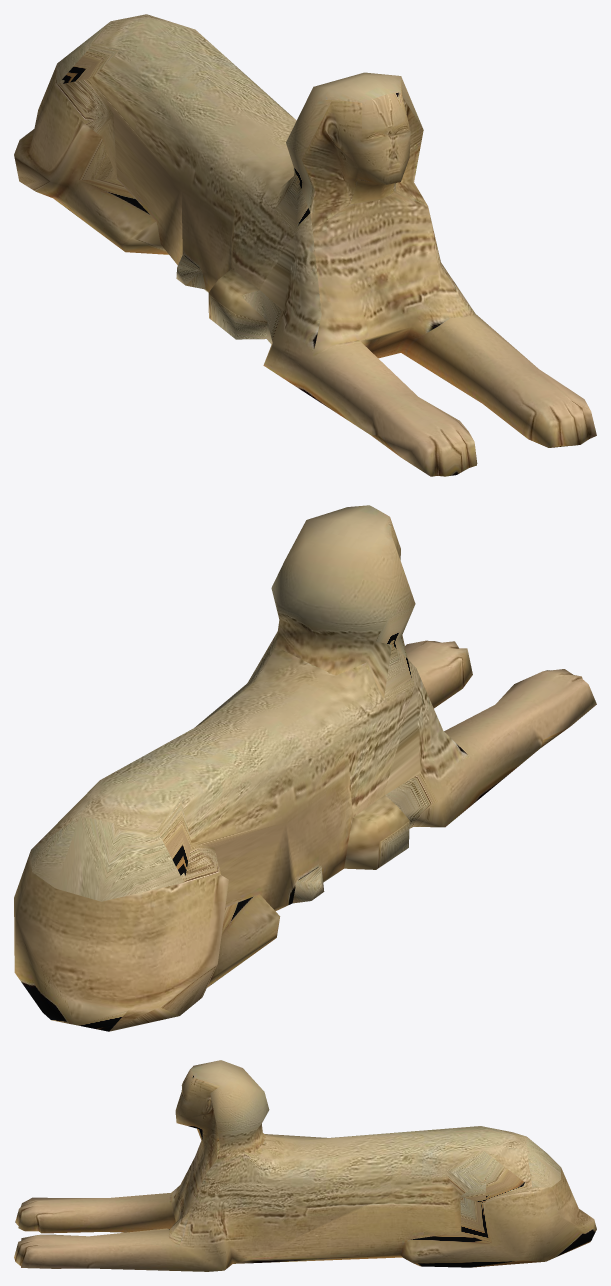
File: aboalhoel1.fbx
The picture shows the model from 3 angles, top to bottom: view 1: azimuth 30°, elevation 25°; view 2: azimuth 150°, elevation 25°; view 3: azimuth 270°, elevation 25°; orthographic projection. The views are drawn at different scales.
Visible parts, largest first — view 1: 10085_egypt_sphinx_iterations-2; view 2: 10085_egypt_sphinx_iterations-2; view 3: 10085_egypt_sphinx_iterations-2.
Boxes of the visible parts, x1=… form: 10085_egypt_sphinx_iterations-2: x1=14, y1=14, x2=596, y2=476; 10085_egypt_sphinx_iterations-2: x1=14, y1=505, x2=596, y2=1031; 10085_egypt_sphinx_iterations-2: x1=14, y1=1060, x2=596, y2=1271.
Bounding box in the file's own units: 1064 × 1444 × 4363.
Materials: 1 (1 with a texture image).
